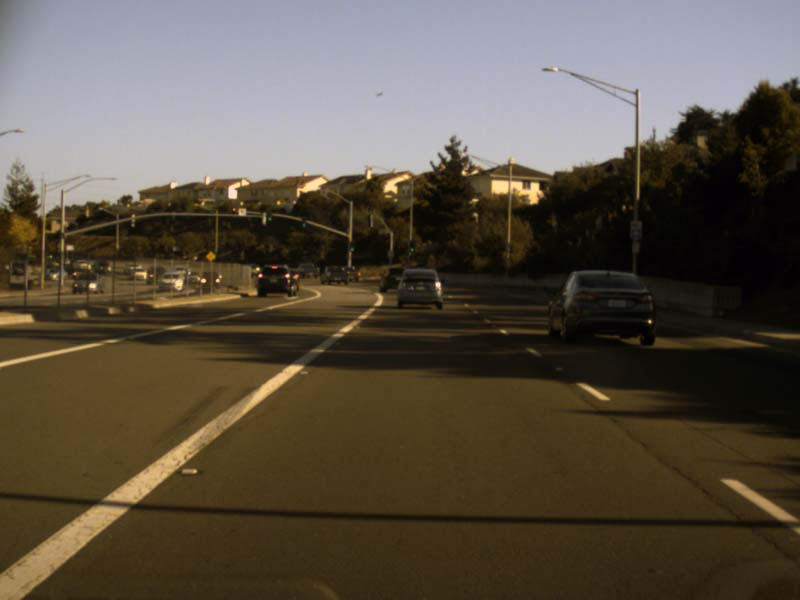Green: (265, 213, 272, 225), (408, 240, 414, 252), (349, 242, 354, 251), (301, 218, 305, 228)
Red: (231, 206, 235, 214)
